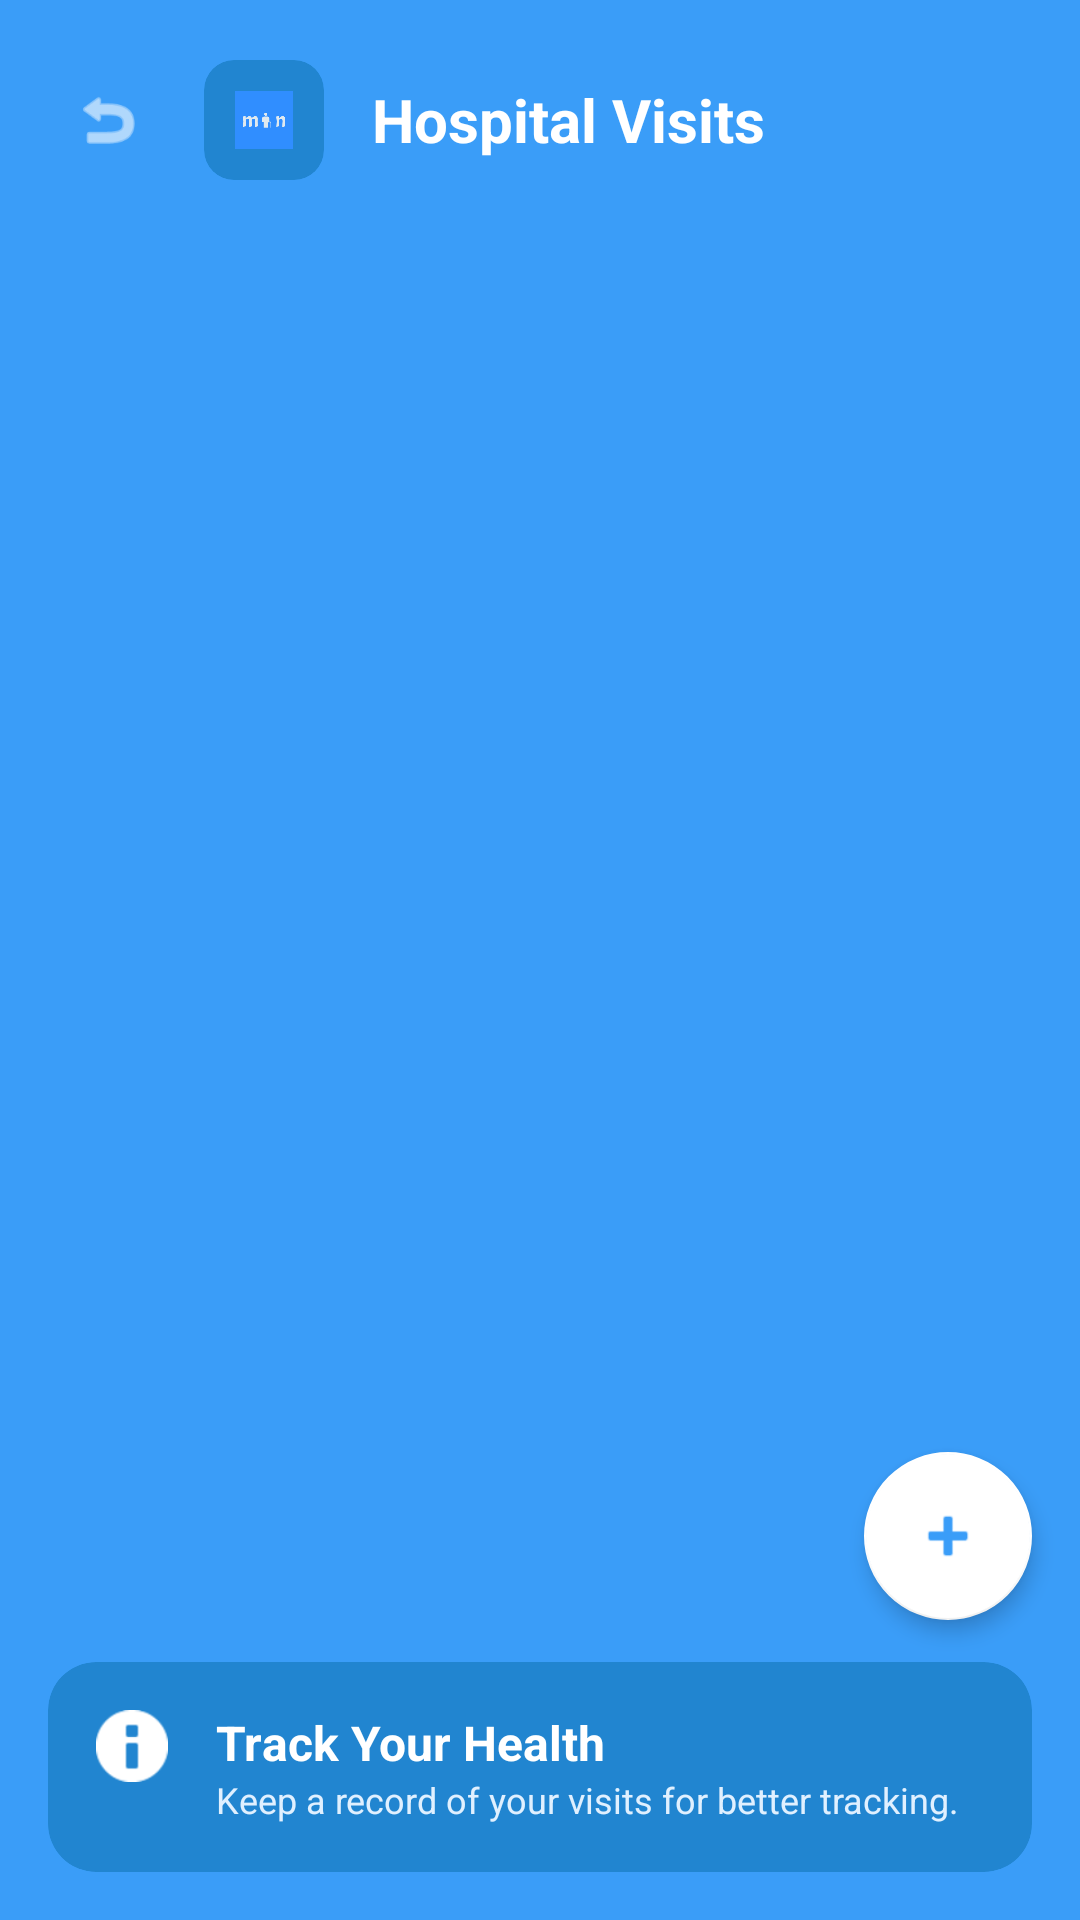

Screen size 1080 x 1920. Icon name, then its box in pixels as [left=x1, top=y1, right=x2, bottom=y2]:
add: [left=864, top=1452, right=1032, bottom=1620]
info: [left=96, top=1710, right=168, bottom=1782]
revert: [left=83, top=97, right=135, bottom=144]
